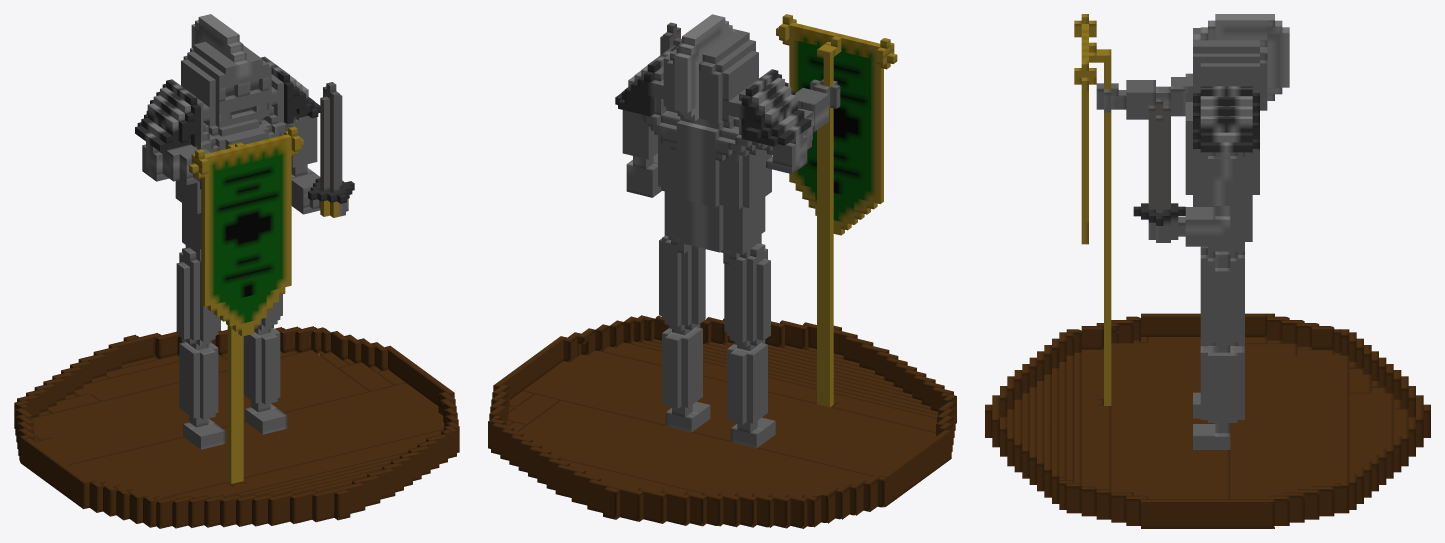
Rendered from the Guardian Warrior.obj.
3 views of the same model, side by side, from view 1: azimuth 30°, elevation 25°; view 2: azimuth 150°, elevation 25°; view 3: azimuth 270°, elevation 25° (orthographic). The views are drawn at different scales.
Parts seen in each view (by area): view 1: Model; view 2: Model; view 3: Model.
Boxes of the visible parts, x1=… form: Model: x1=14, y1=14, x2=459, y2=528; Model: x1=488, y1=14, x2=956, y2=528; Model: x1=985, y1=14, x2=1430, y2=528.
Size of the model in its own units: 30.97 by 32 by 30.97.
Materials: 1 (1 with a texture image).
